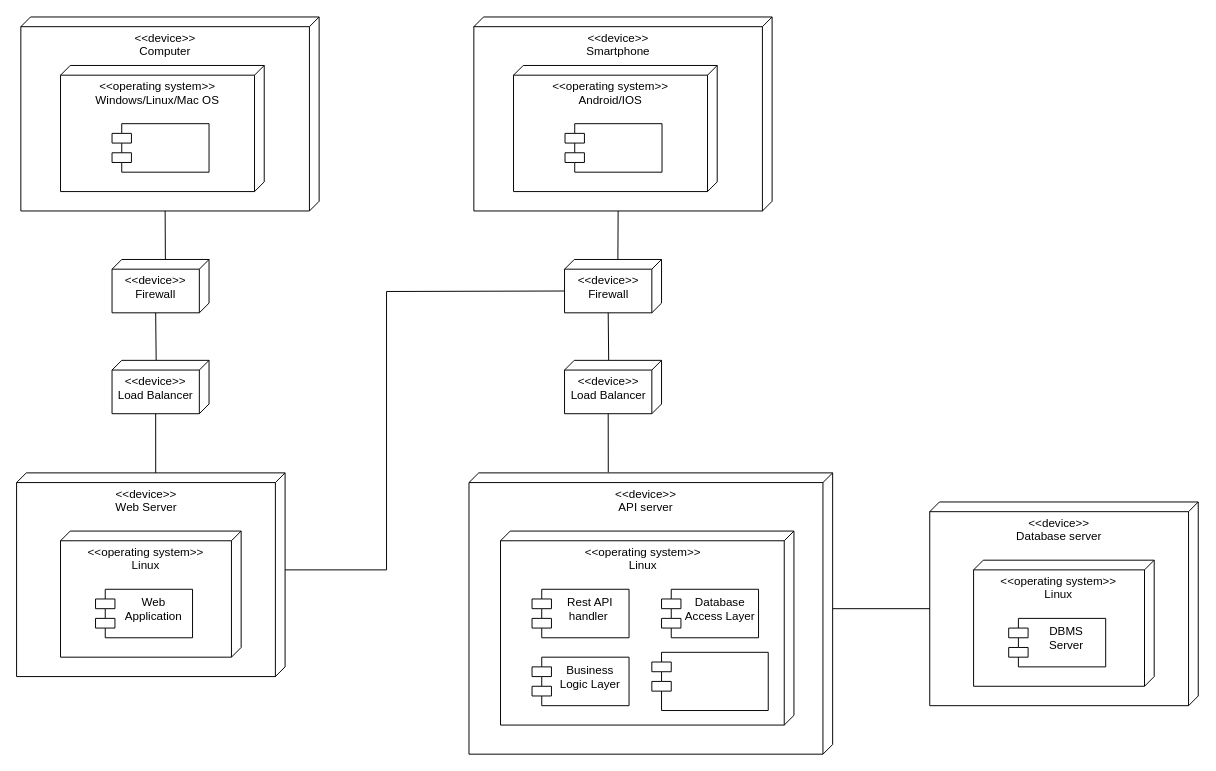
Some shapes in this 1216 by 771 pixel diagram are drawn without their labels. Each missing label, with the centre of its shape:
"Authentication and Authorization Module" belongs at (x=709, y=681).
"Browser" belongs at (x=160, y=147).
"S&C Client Application" belongs at (x=613, y=147).
